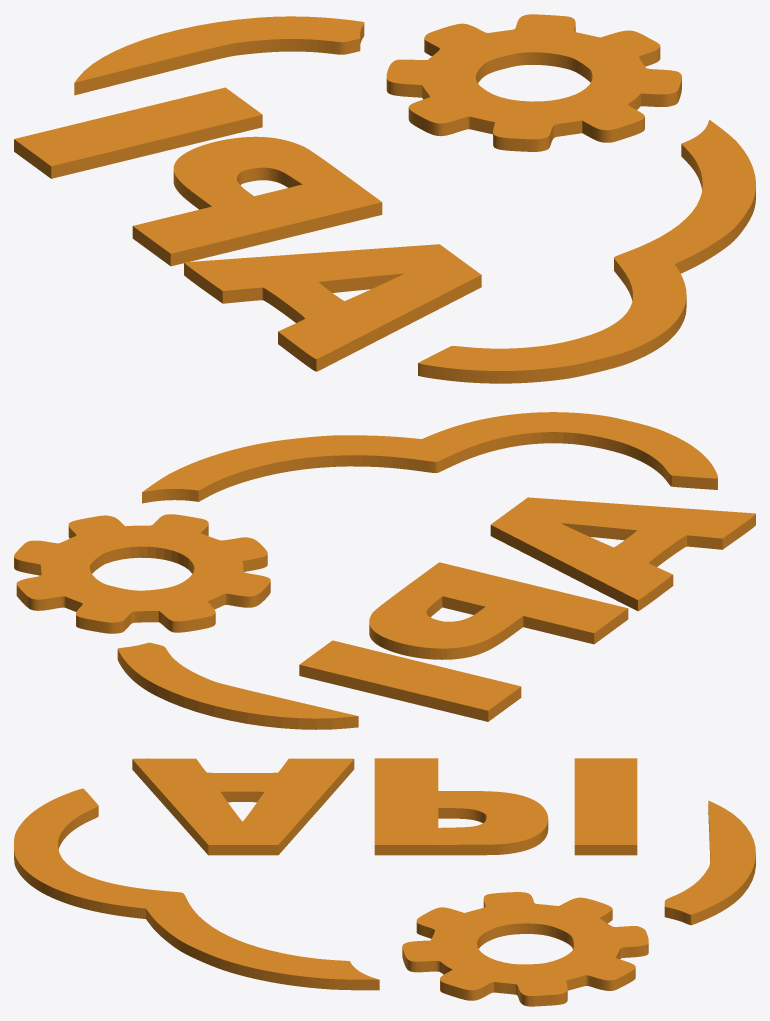
File: restapi.glb
3 renders of one model, top to bottom at view 1: azimuth 30°, elevation 25°; view 2: azimuth 150°, elevation 25°; view 3: azimuth 270°, elevation 25°, orthographic. The views are drawn at different scales.
Visible parts, largest first — view 1: Curve.001; view 2: Curve.001; view 3: Curve.001.
Boxes of the visible parts, <box> form: Curve.001: <box>14,14,755,383</box>; Curve.001: <box>14,412,755,729</box>; Curve.001: <box>14,758,755,1006</box>.
Size of the model in its own units: 2.28 by 0.0473 by 3.01.
